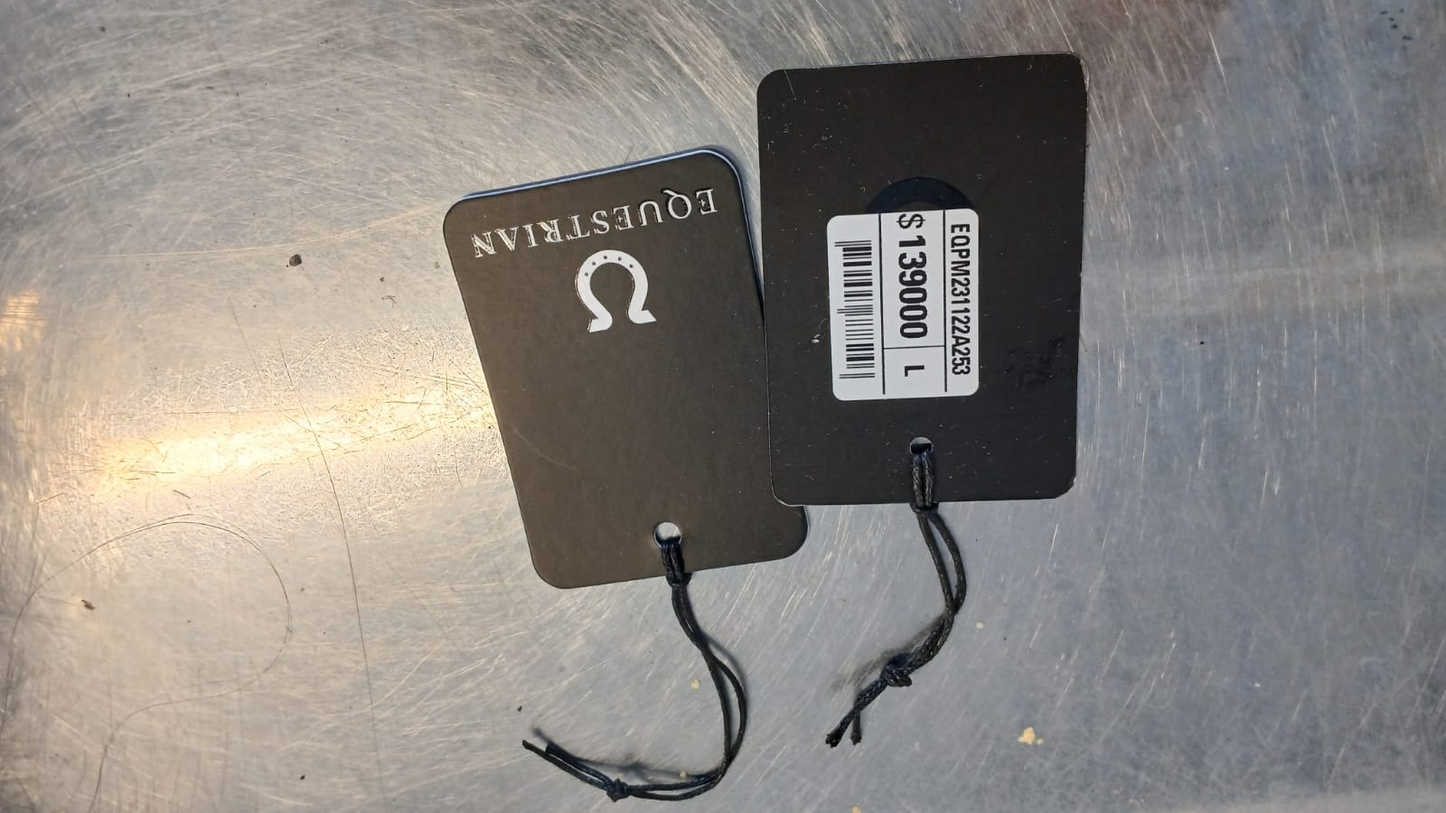Papel: (444, 51, 1092, 592)
